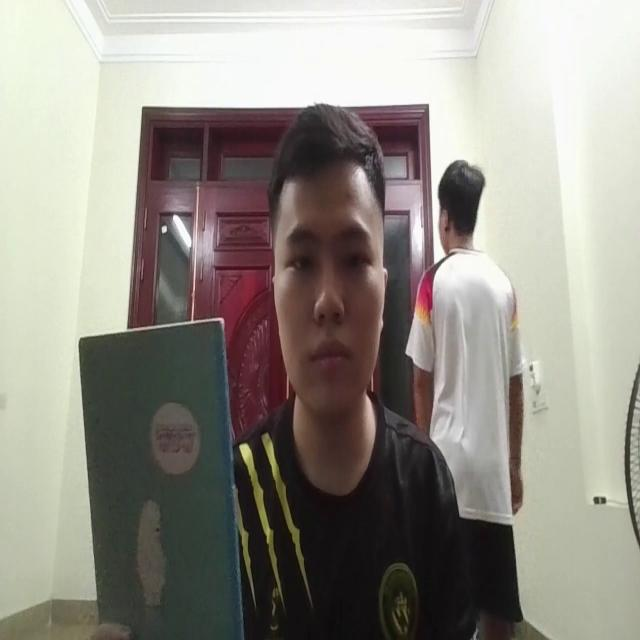book: (68, 306, 247, 640)
extra_person: (407, 142, 527, 616)
student: (239, 112, 399, 640)
